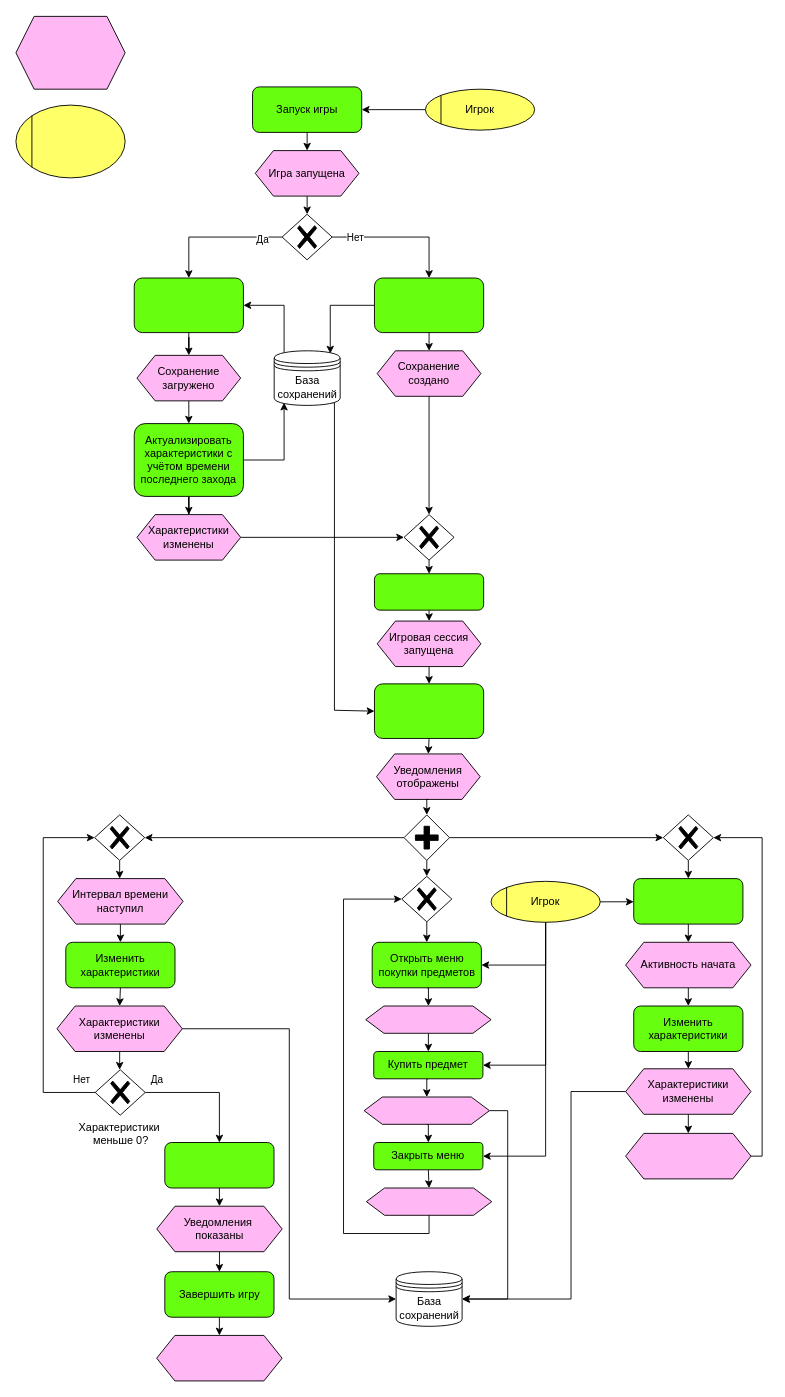
Image size: 785x1397. Some labels were removed from this diagram. The centre of each missing label's shape, as x and y in pixels:
Активность закончена: point 688,1155
Есть локальное сохранение?: point 306,236
Загрузка локального сохранения: point 188,305
Запуск игровой сессии: point 429,591
Игра завершена: point 219,1358
Меню закрыто: point 428,1201
Меню открыто: point 428,1019
Отобразить уведомления о произошедших событиях: point 429,710
Отправить персонажа на активость: point 688,901
Показать уведомление об окончании игры: point 219,1165
Предмет куплен: point 426,1110
Создание локального сохранения: point 429,305
